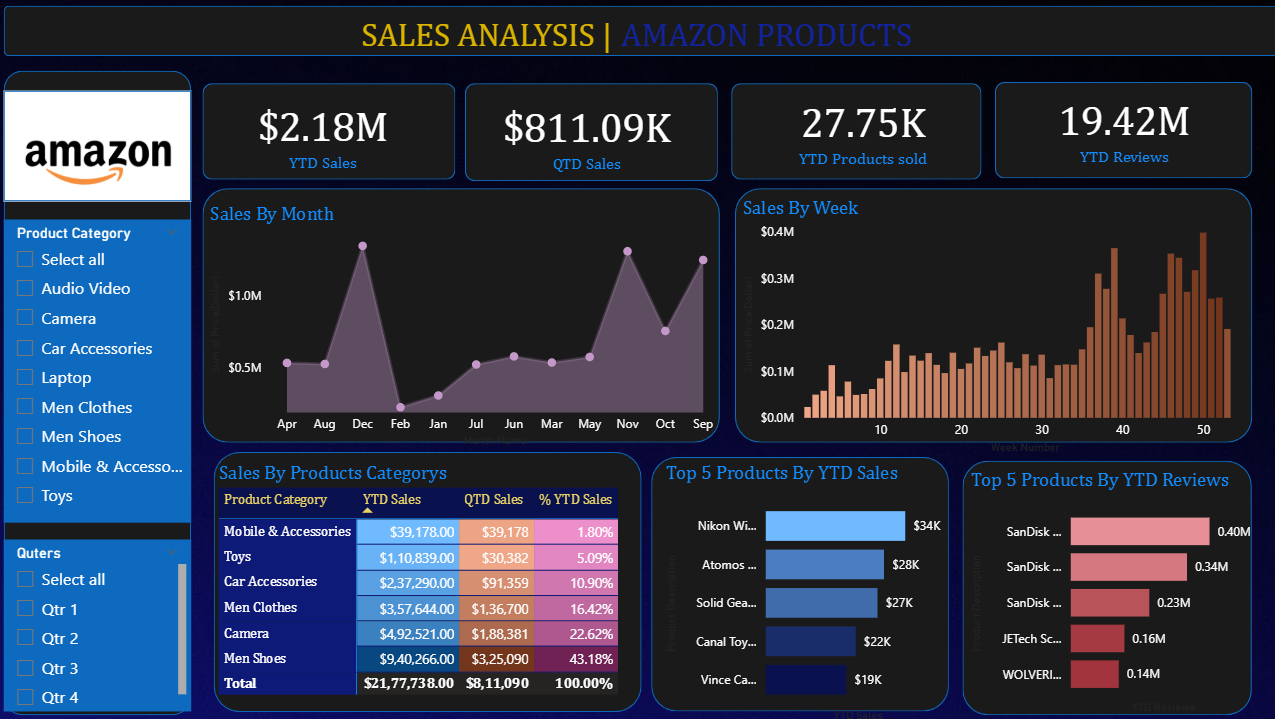

This screenshot's page, from the dashboard's own definition file:
{"tool":"powerbi","page":{"name":"Page 1","canvas":[1280,720],"ordinal":0},"visuals":[{"type":"shape","box":[13.7,13.7,1252.8,49.4],"z":0},{"type":"textbox","box":[359.5,13.7,598.3,63.1],"z":1000},{"type":"shape","box":[13.7,76.8,183.9,632.6],"z":2000},{"type":"shape","box":[208.6,89.2,248.4,94.7],"z":3000},{"type":"card","fields":{"Values":["Amazon_Data.YTD Sales"]},"box":[197.6,87.8,259.3,102.9],"z":4000},{"type":"shape","box":[466.6,89.2,248.4,96.1],"z":5000},{"type":"shape","box":[727.3,89.2,245.6,94.7],"z":6000},{"type":"shape","box":[986.6,87.8,252.5,94.7],"z":7000},{"type":"card","fields":{"Values":["Amazon_Data.QTD Sales"]},"box":[456.9,89.2,259.3,102.9],"z":8000},{"type":"card","fields":{"Values":["Amazon_Data.YTD Reviews"]},"box":[983.9,82.3,259.3,102.9],"z":9000},{"type":"card","fields":{"Values":["Amazon_Data.YTD Products sold"]},"box":[727.3,85.1,259.3,102.9],"z":10000},{"type":"shape","box":[208.6,192.1,507.7,249.7],"z":11000},{"type":"areaChart","title":"Sales By Month","fields":{"Category":["Date Table.Month Name"],"Y":["Sum(Amazon_Data.Price(Dollar))"]},"box":[211.3,205.8,509.1,245.6],"z":12000},{"type":"shape","box":[731.4,192.1,507.7,249.7],"z":13000},{"type":"columnChart","title":"Sales By Week","fields":{"Category":["Date Table.Week Number"],"Y":["Sum(Amazon_Data.Price(Dollar))"]},"box":[734.1,200.3,509.1,258],"z":14000},{"type":"shape","box":[219.6,451.5,419.9,255.2],"z":15000},{"type":"pivotTable","title":"Sales By Products Categorys","fields":{"Rows":["Amazon_Data.Product Category"],"Values":["Amazon_Data.YTD Sales1","Amazon_Data.QTD Sales","Amazon_Data.YTD Sales"]},"box":[219.6,459.7,439.1,249.7],"z":16000},{"type":"shape","box":[649.1,456.9,292.3,249.7],"z":17000},{"type":"shape","box":[955.1,459.7,284,249.7],"z":18000},{"type":"clusteredBarChart","title":"Top 5 Products By  YTD Sales","fields":{"Category":["Amazon_Data.Product Description"],"Y":["Amazon_Data.YTD Sales"]},"box":[658.7,459.7,289.5,260.7],"z":19000},{"type":"clusteredBarChart","title":"Top 5 Products By  YTD Reviews","fields":{"Category":["Amazon_Data.Product Description"],"Y":["Amazon_Data.YTD Reviews"]},"box":[957.8,467.9,289.5,245.6],"z":20000},{"type":"slicer","fields":{"Values":["Amazon_Data.Product Category"]},"box":[13.7,223.7,183.9,297.8],"z":21000},{"type":"slicer","fields":{"Values":["Date Table.Qtr"]},"box":[13.7,537.9,183.9,168.8],"z":23000},{"type":"shape","box":[13.7,97.4,183.9,108.4],"z":24000},{"type":"image","box":[6.9,85.1,197.6,156.4],"z":24500}]}

Visuals, with their boxes in screenshot pixels (x1, y1, x2, y2), scaled from the page's 1280x720 canvas onto the 1275x719 screenshot:
shape: box(14, 14, 1262, 63)
textbox: box(358, 14, 954, 77)
shape: box(14, 77, 197, 708)
shape: box(208, 89, 455, 184)
card - Amazon_Data.YTD Sales: box(197, 88, 455, 190)
shape: box(465, 89, 712, 185)
shape: box(724, 89, 969, 184)
shape: box(983, 88, 1234, 182)
card - Amazon_Data.QTD Sales: box(455, 89, 713, 192)
card - Amazon_Data.YTD Reviews: box(980, 82, 1238, 185)
card - Amazon_Data.YTD Products sold: box(724, 85, 983, 188)
shape: box(208, 192, 714, 441)
"Sales By Month" areaChart: box(210, 206, 718, 451)
shape: box(729, 192, 1234, 441)
"Sales By Week" columnChart: box(731, 200, 1238, 458)
shape: box(219, 451, 637, 706)
"Sales By Products Categorys" pivotTable: box(219, 459, 656, 708)
shape: box(647, 456, 938, 706)
shape: box(951, 459, 1234, 708)
"Top 5 Products By  YTD Sales" clusteredBarChart: box(656, 459, 944, 718)
"Top 5 Products By  YTD Reviews" clusteredBarChart: box(954, 467, 1242, 713)
slicer - Amazon_Data.Product Category: box(14, 223, 197, 521)
slicer - Date Table.Qtr: box(14, 537, 197, 706)
shape: box(14, 97, 197, 206)
image: box(7, 85, 204, 241)
